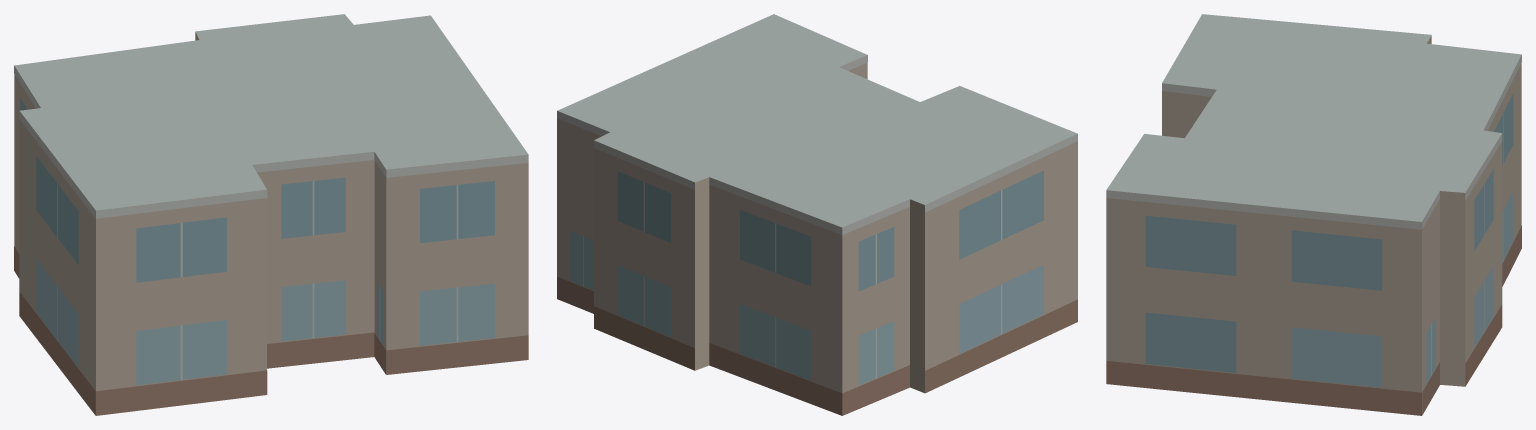
The model's file is survey-upis-32643354.glb.
3 renders of one model, left to right at view 1: azimuth 30°, elevation 25°; view 2: azimuth 150°, elevation 25°; view 3: azimuth 270°, elevation 25°, orthographic. The views are drawn at different scales.
Parts seen in each view (by area): view 1: survey-upis-32643354.tmp; view 2: survey-upis-32643354.tmp; view 3: survey-upis-32643354.tmp.
Part boxes in pixels (x1,y1,x2,y2): survey-upis-32643354.tmp: [14, 14, 528, 415]; survey-upis-32643354.tmp: [557, 14, 1077, 415]; survey-upis-32643354.tmp: [1106, 14, 1521, 415].
Bounding box in the file's own units: 14.05 × 6.1 × 11.86.
